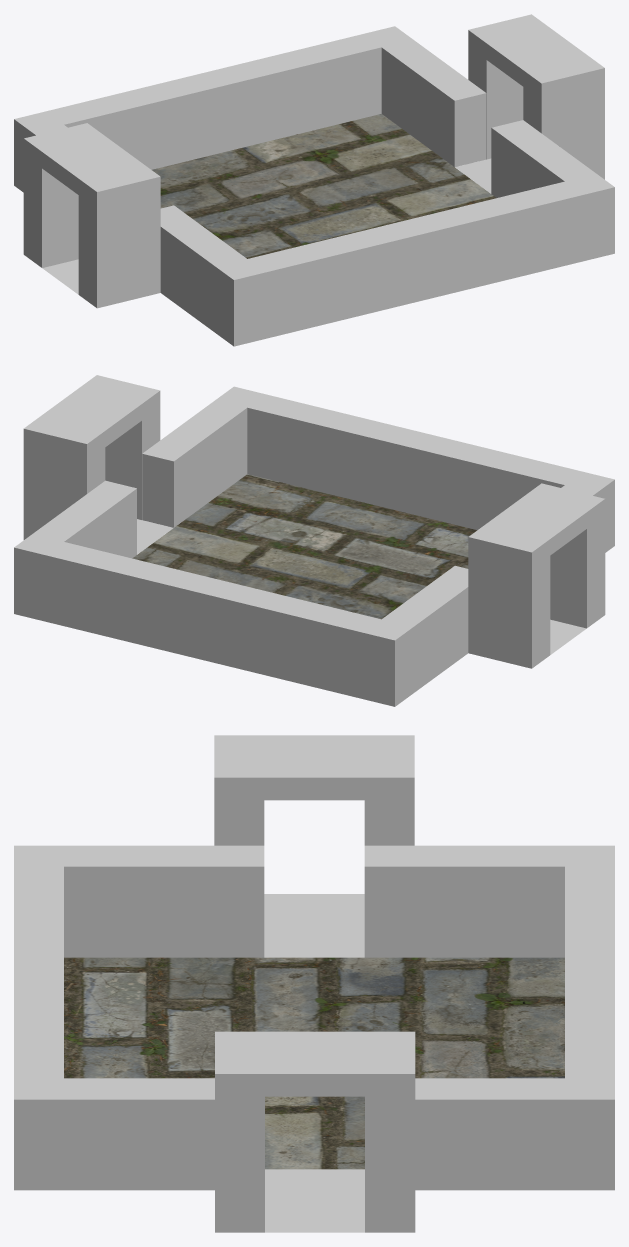
Rendered from 2exitRoom.fbx.
The picture shows the model from 3 angles, top to bottom: view 1: azimuth 30°, elevation 25°; view 2: azimuth 150°, elevation 25°; view 3: azimuth 270°, elevation 25°; orthographic projection. The views are drawn at different scales.
Parts seen in each view (by area): view 1: Cube.011, Plane.009, Cube.010, Cube.012, Plane.011, Plane.010; view 2: Cube.011, Plane.009, Cube.010, Cube.012, Plane.010, Plane.011; view 3: Cube.011, Plane.009, Cube.012, Cube.010, Plane.010, Plane.011.
Part boxes in pixels (<box>): Cube.011: <box>14,26,614,346</box>; Plane.009: <box>152,114,496,258</box>; Cube.010: <box>23,123,160,308</box>; Cube.012: <box>468,14,604,179</box>; Plane.011: <box>455,158,491,193</box>; Plane.010: <box>42,259,78,294</box>; Cube.011: <box>14,386,614,706</box>; Plane.009: <box>132,474,476,619</box>; Cube.010: <box>468,483,605,668</box>; Cube.012: <box>23,375,160,539</box>; Plane.010: <box>550,619,586,654</box>; Plane.011: <box>137,519,173,554</box>; Cube.011: <box>14,845,614,1190</box>; Plane.009: <box>64,957,564,1169</box>; Cube.012: <box>215,1031,415,1232</box>; Cube.010: <box>214,735,414,845</box>; Plane.010: <box>264,894,364,957</box>; Plane.011: <box>265,1169,364,1232</box>.
Size of the model in its own units: 1600 by 350 by 1200.
